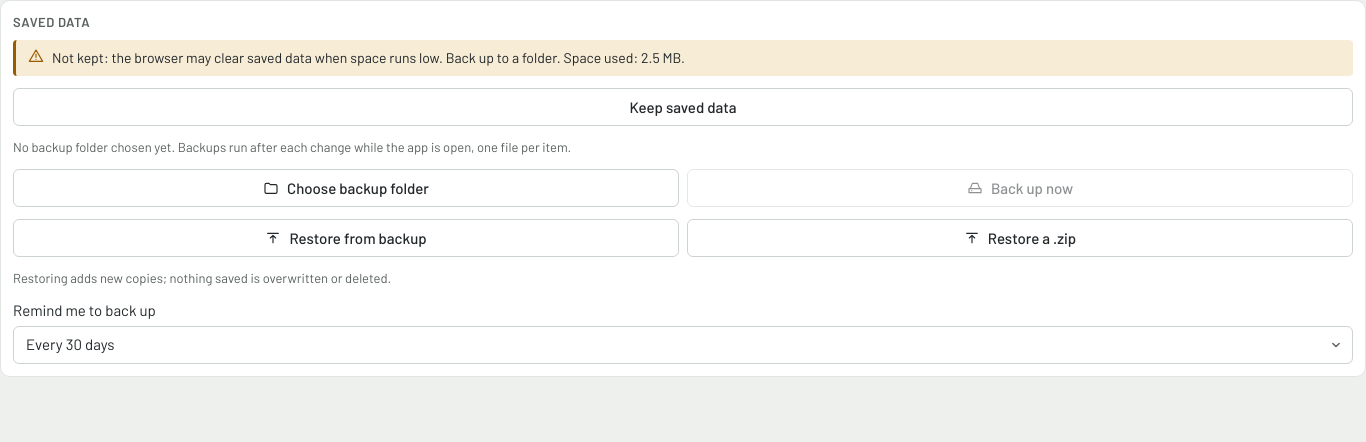
Settings › Saved data (ADR-133) › shows "Not kept" with Keep saved data, and the browser’s refusal
Expected: the text "Not kept: the browser may clear saved data" is shown, [52,49,561,66]
Expected: the text "Space used: 2.5 MB" is shown, [561,49,685,66]
Click the button "Keep saved data" at (683, 107), box [13,88,1353,126]
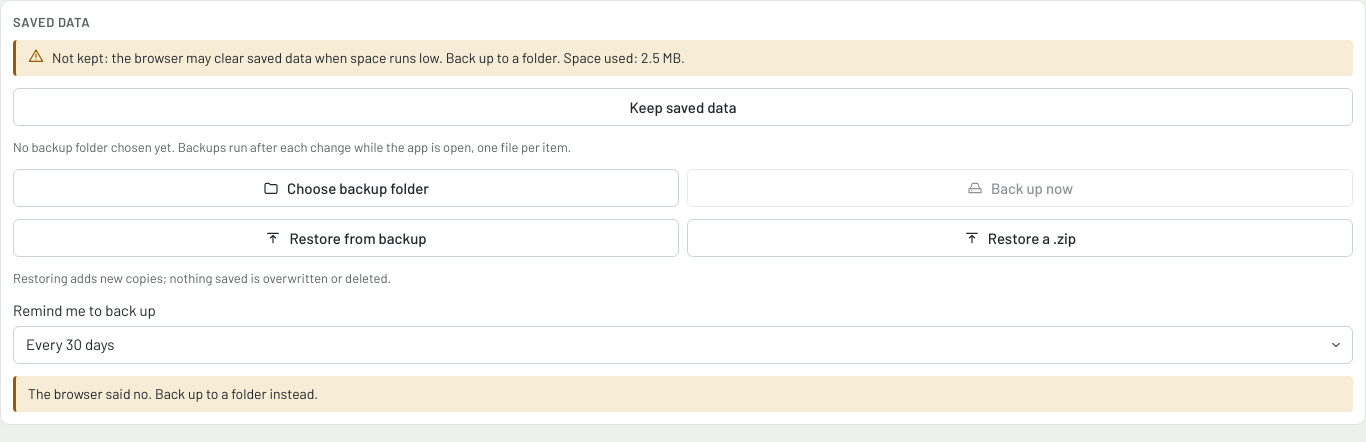
Expected: the text "The browser said no. Back up to a folder instead." is shown, [13,376,1353,412]
